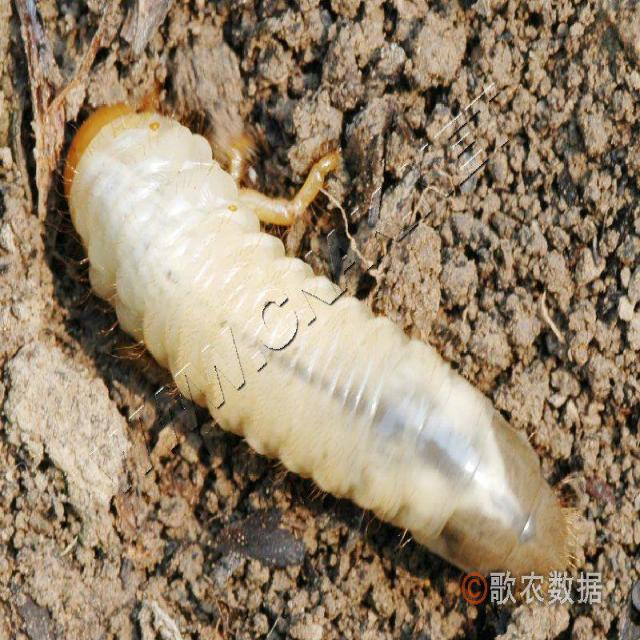Grub-Adult-: (46, 87, 566, 583)
